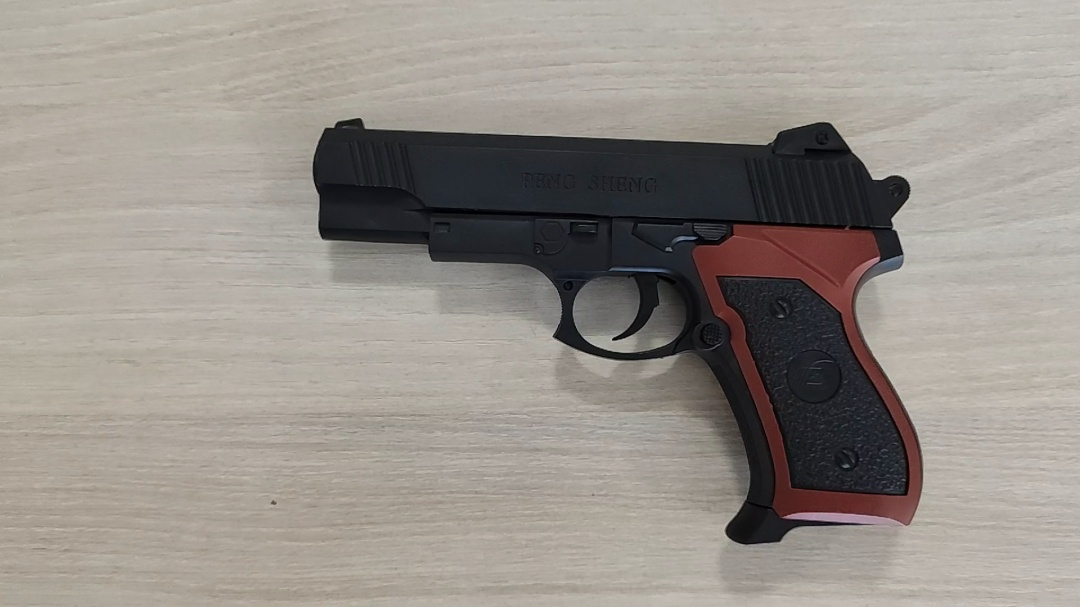gun: (350, 240, 456, 458)
